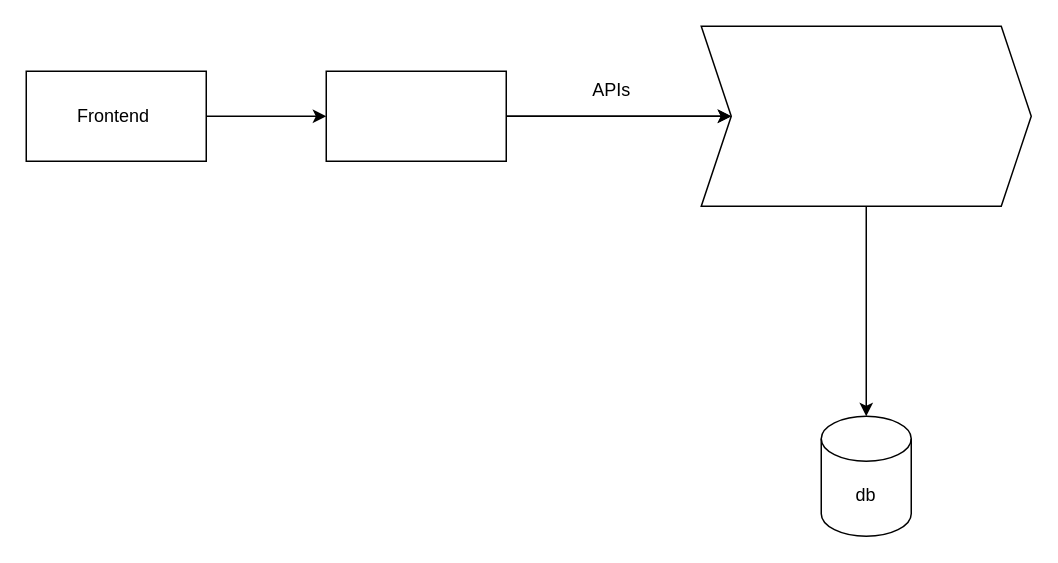
The diagram is 1058 pixels wide and 563 high, and some of its shapes have lost their labels. The centre of each missing label's shape, as x and y in pixels:
"backend" goes at point (415, 115).
"microservice(authorisation,auth,)" goes at point (865, 115).
